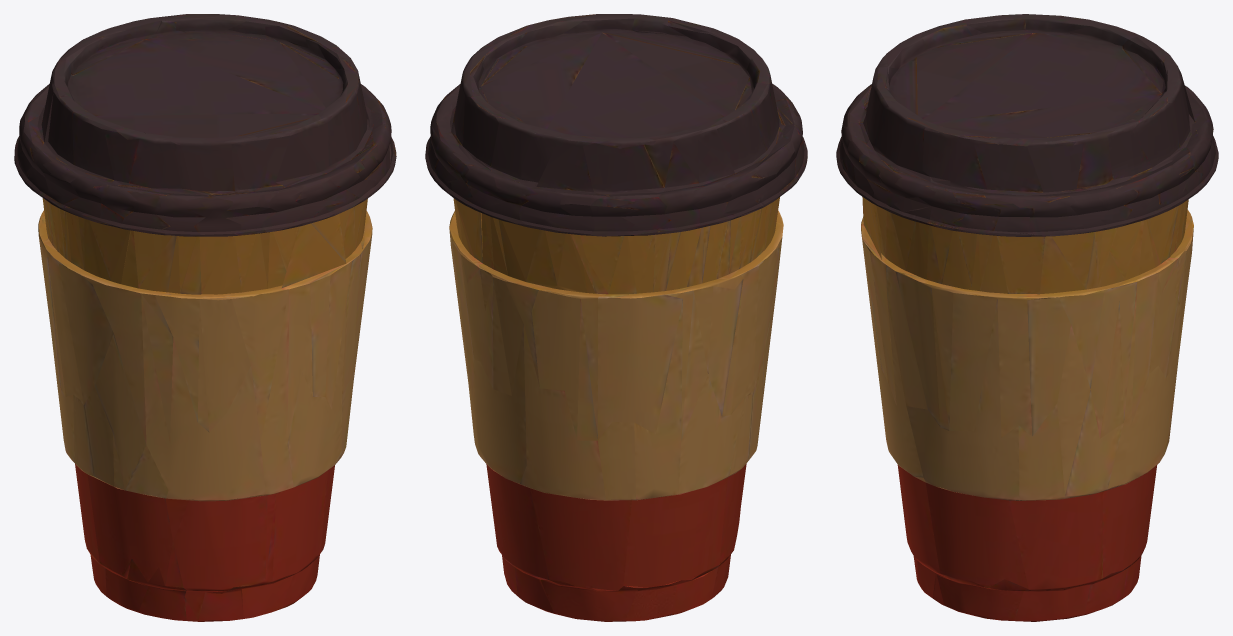
File: coffee.glb
3 renders of one model, left to right at view 1: azimuth 30°, elevation 25°; view 2: azimuth 150°, elevation 25°; view 3: azimuth 270°, elevation 25°, orthographic.
Bounding box in the file's own units: 1.32 × 1.9 × 1.32.
1 material, 1 textured.
